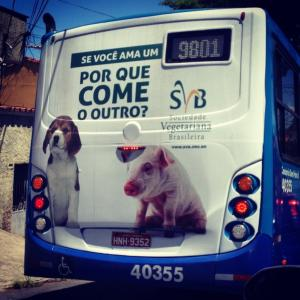Vehicle-registration-plate: (112, 233, 152, 249)
